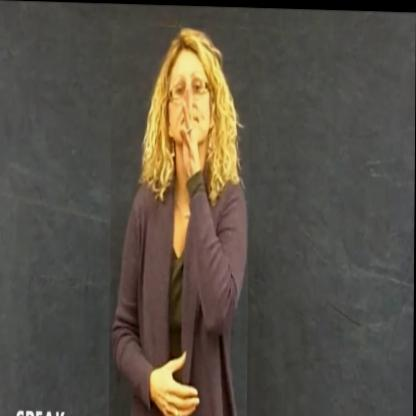Talk: (110, 25, 250, 416)
